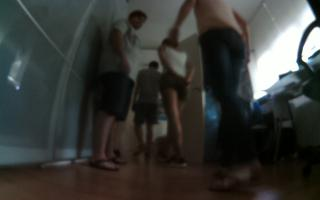person: (168, 1, 267, 191), (90, 8, 148, 173), (153, 38, 198, 167), (133, 54, 160, 163)
